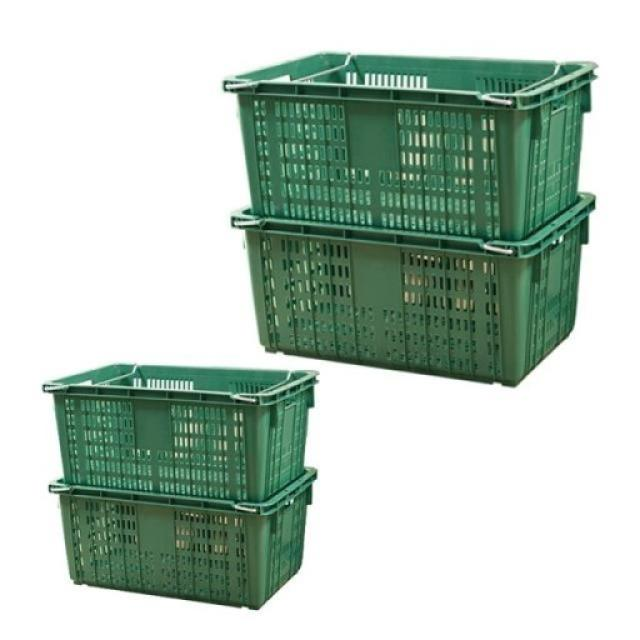basket: (214, 49, 601, 388), (39, 362, 316, 504), (50, 470, 316, 609)
